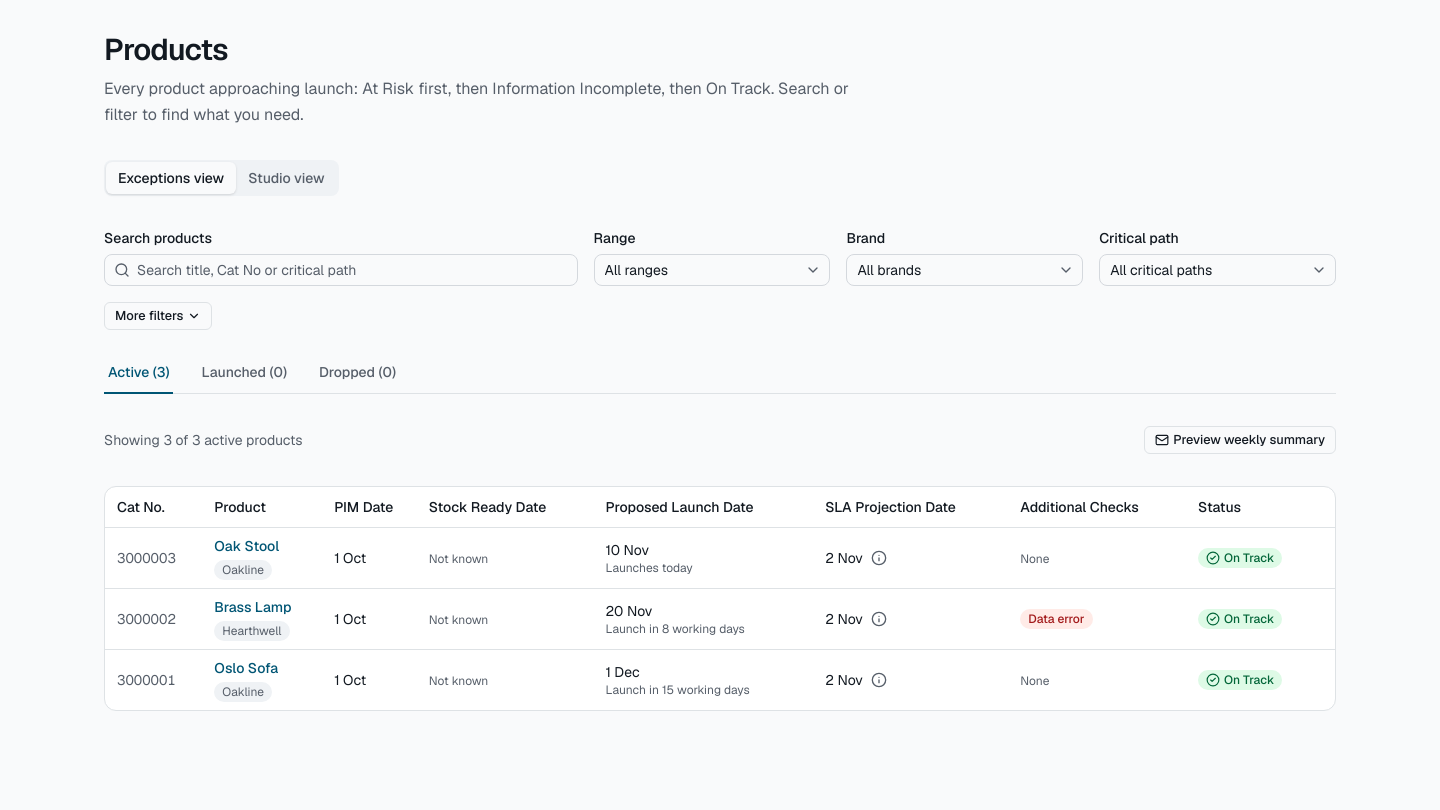
Test case: Studio filters › searches by critical path
Click the button "Studio view".
click(286, 178)  # box [236,162,337,194]
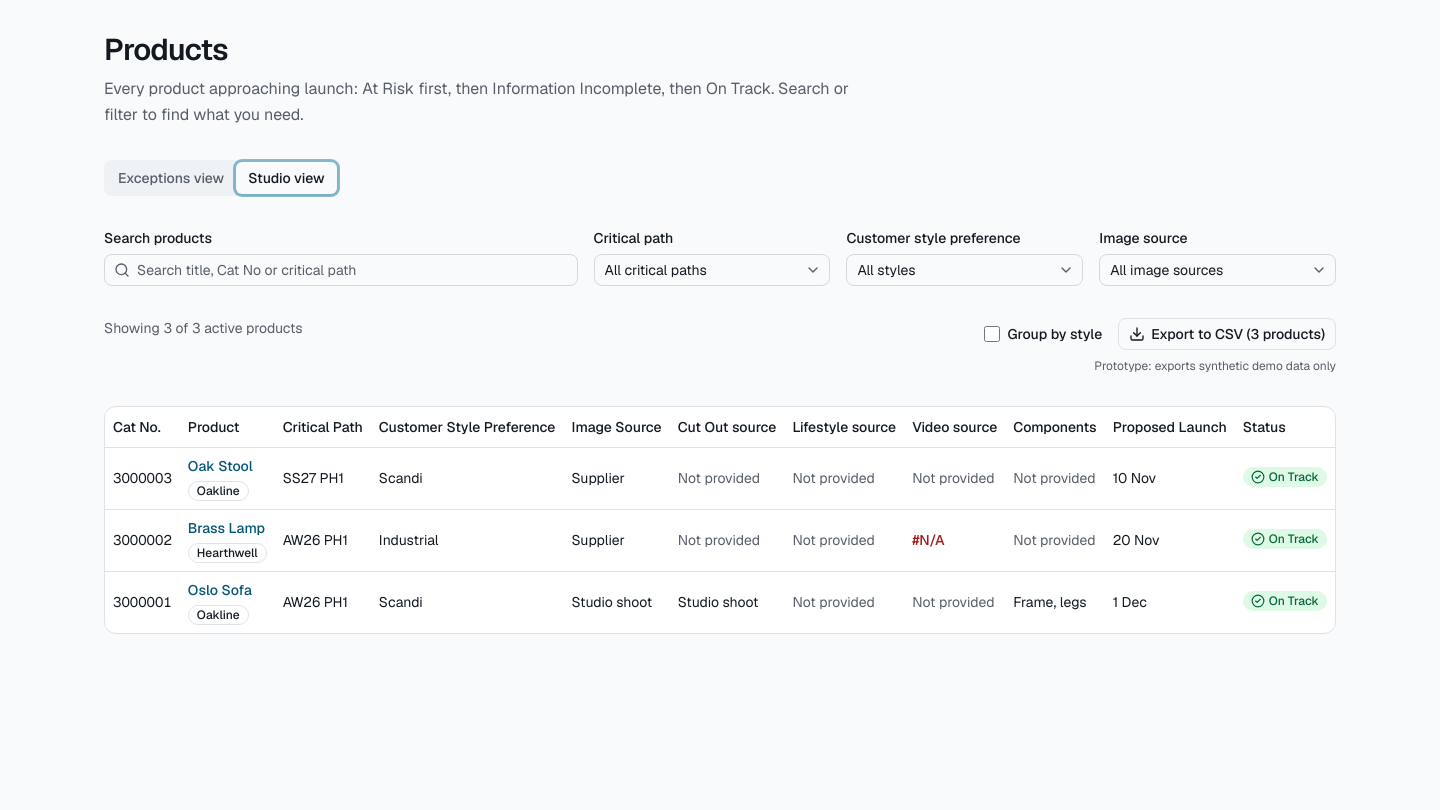
Type "SS27" into the search field labelled "Search products".
click(341, 270); type("SS27")  # box [104,254,578,286]
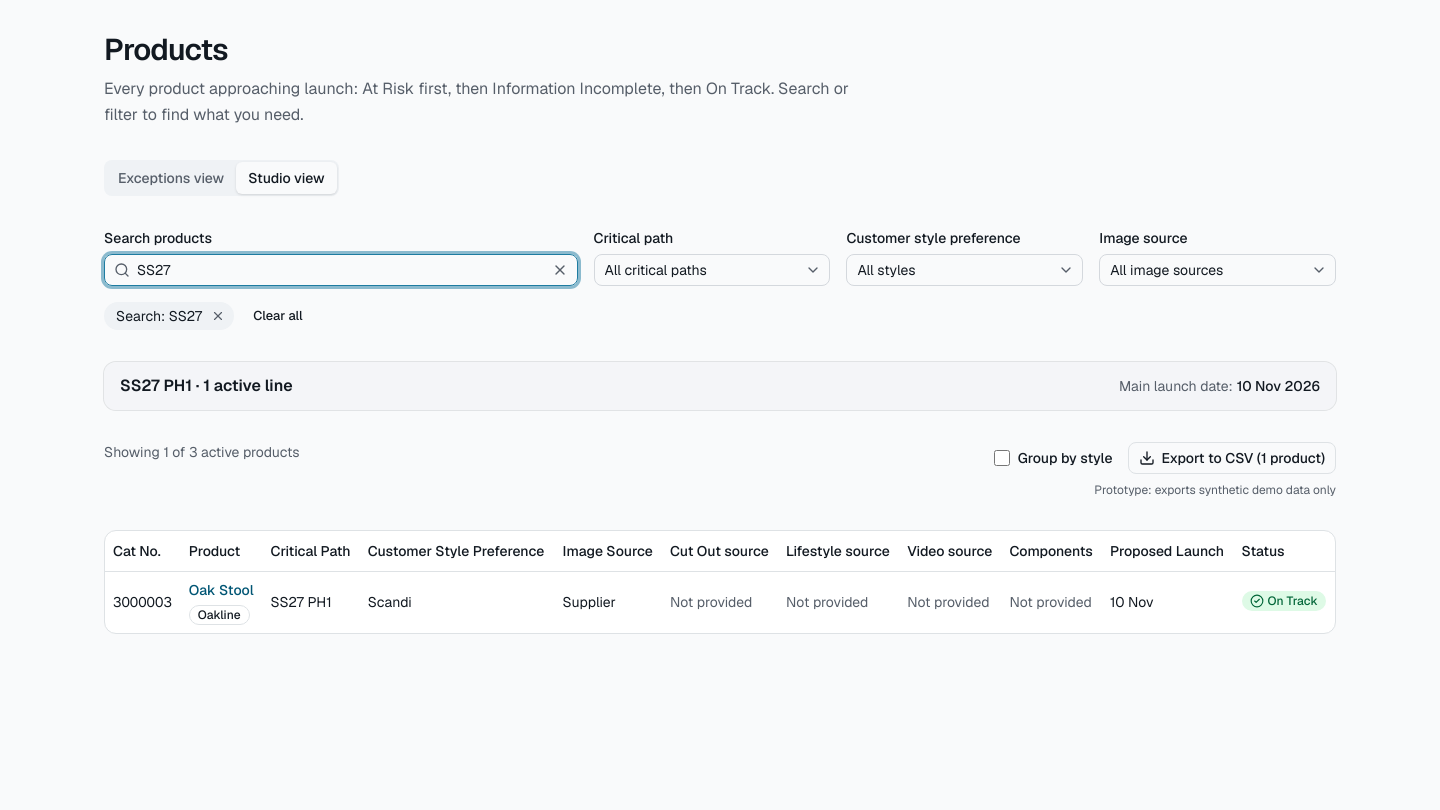
Expected: the text "Showing 1 of 3 active products" is shown, [104,442,299,462]
